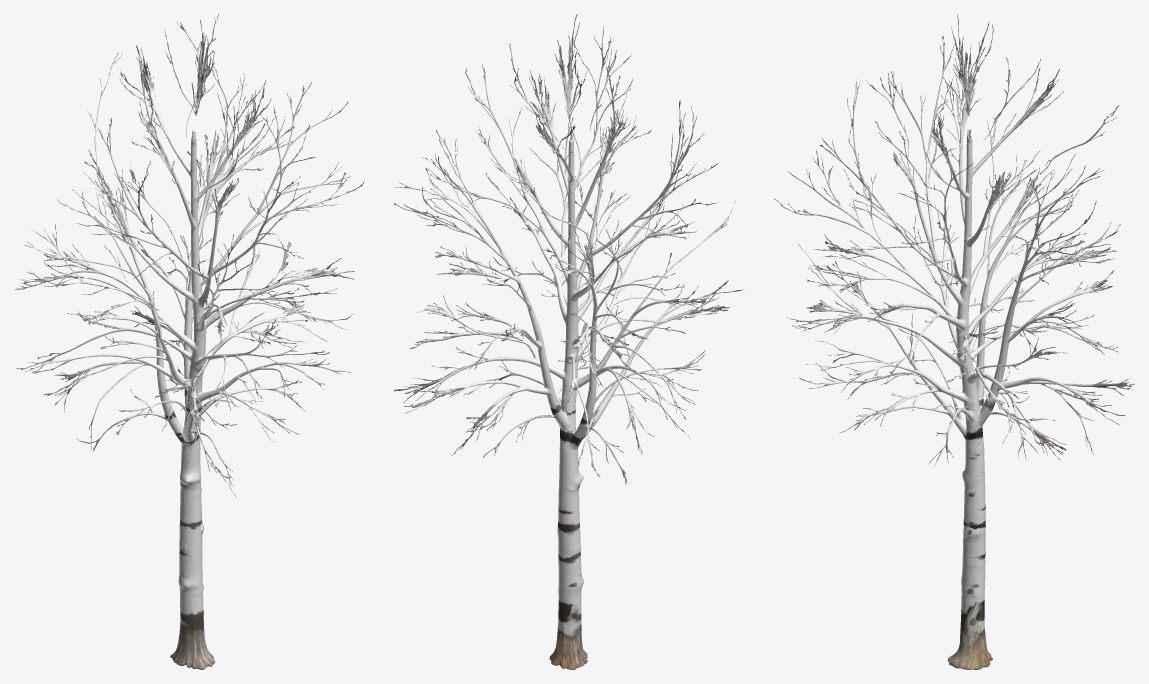
The model's file is birch.glb.
The picture shows the model from 3 angles, left to right: view 1: azimuth 30°, elevation 25°; view 2: azimuth 150°, elevation 25°; view 3: azimuth 270°, elevation 25°; orthographic projection.
Bounding box in the file's own units: 0.8913 × 1.87 × 0.944.
1 material, 1 textured.
